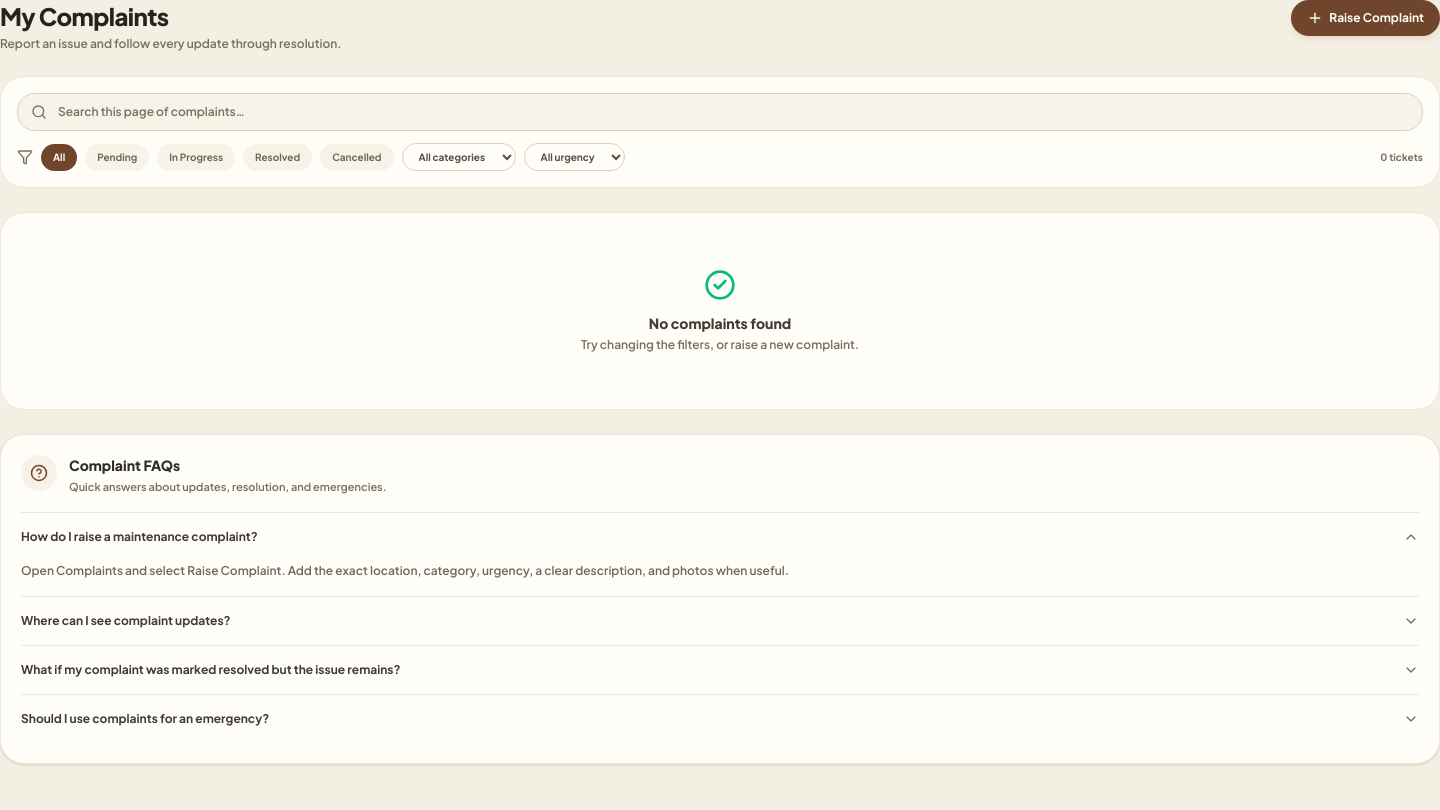
Test: raise-complaint modal portal contract › keeps the close-button behavior
Click the button "Raise Complaint" at x=1366, y=18, box [1291,0,1439,36]
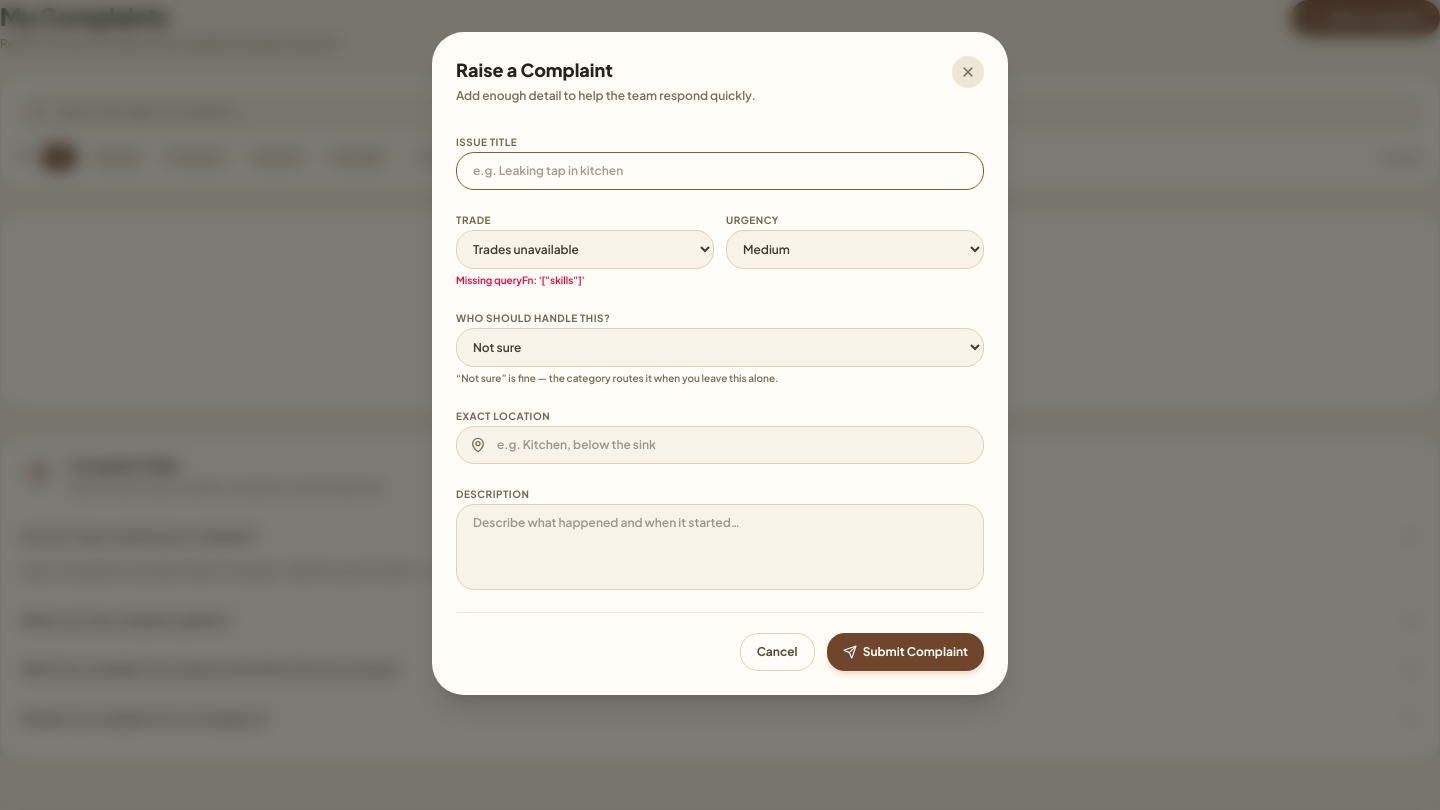
Click the button named "Close complaint form" at x=968, y=72, box [952,56,984,88]
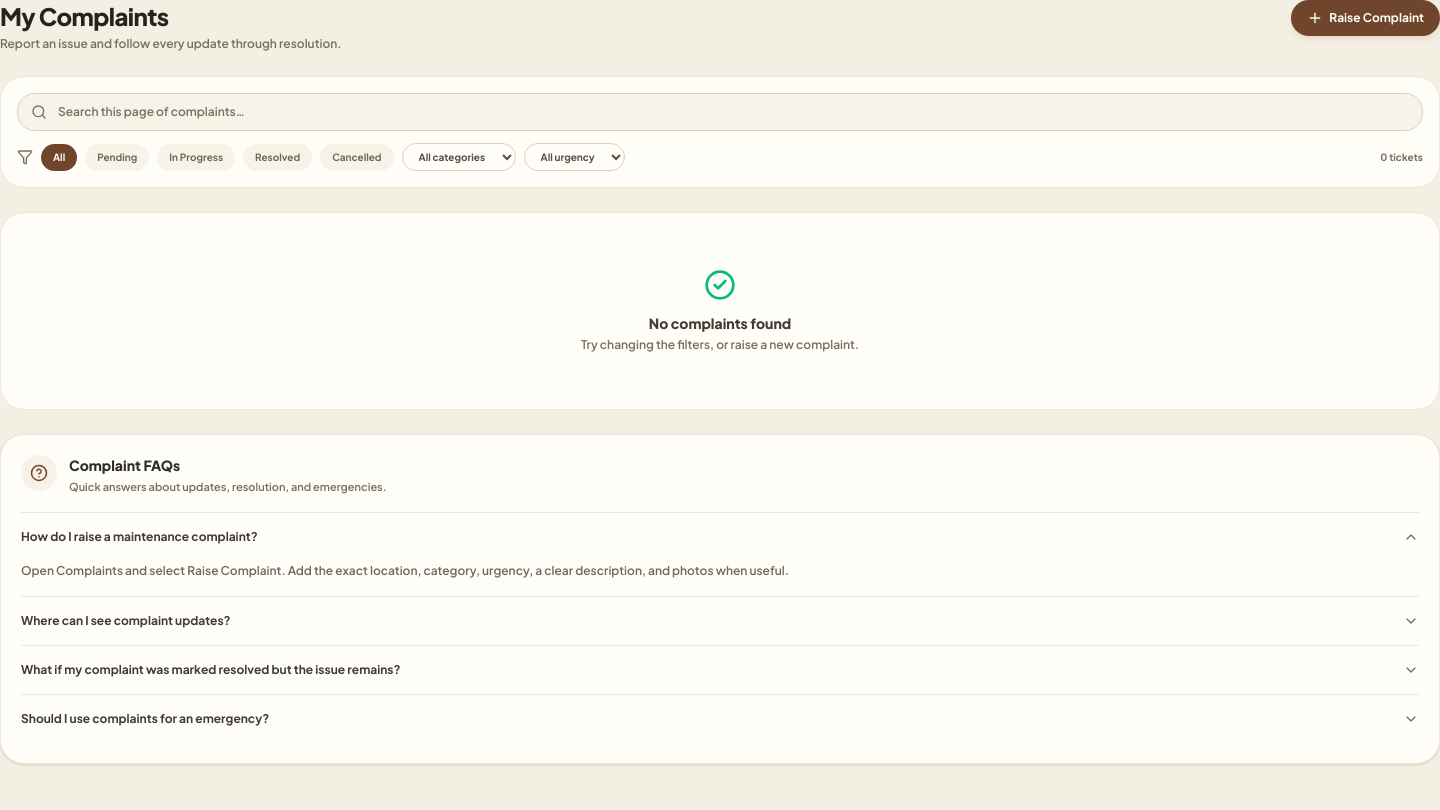
expect the dialog is gone: met
